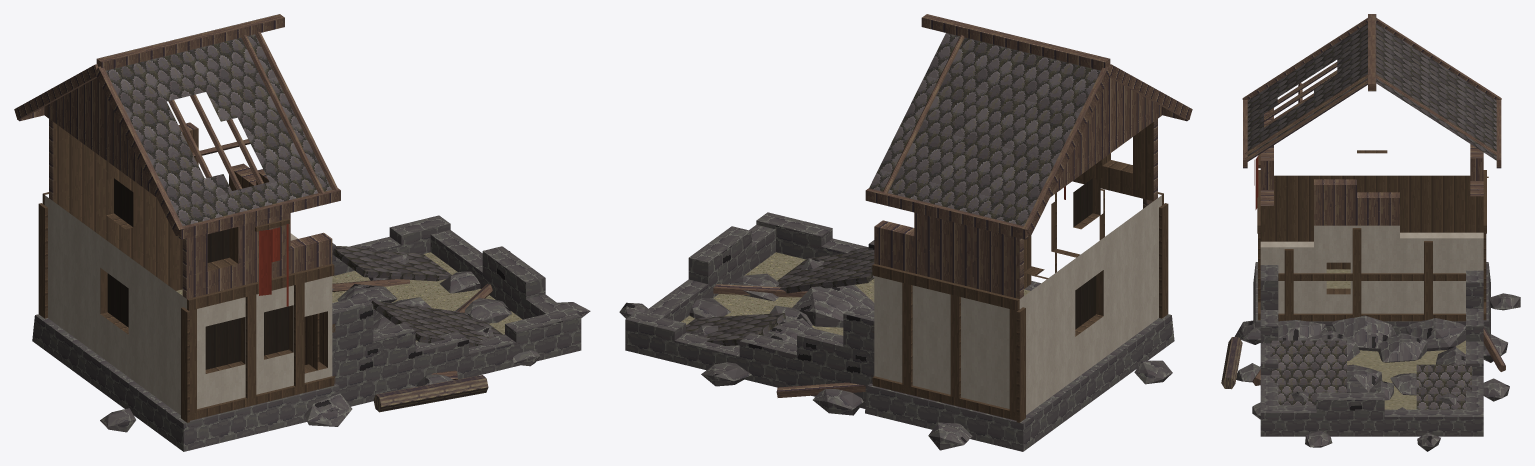
The model's file is command_post_stage0.glb.
3 renders of one model, left to right at view 1: azimuth 30°, elevation 25°; view 2: azimuth 150°, elevation 25°; view 3: azimuth 270°, elevation 25°, orthographic. The views are drawn at different scales.
Parts seen in each view (by area): view 1: command_post_stage0; view 2: command_post_stage0; view 3: command_post_stage0.
Boxes of the visible parts, x1,y1,x2,y2 form: command_post_stage0: [14, 14, 590, 451]; command_post_stage0: [619, 14, 1192, 451]; command_post_stage0: [1221, 14, 1520, 451].
Bounding box in the file's own units: 9.75 × 6.75 × 6.71.
Materials: 10 (10 with a texture image).
